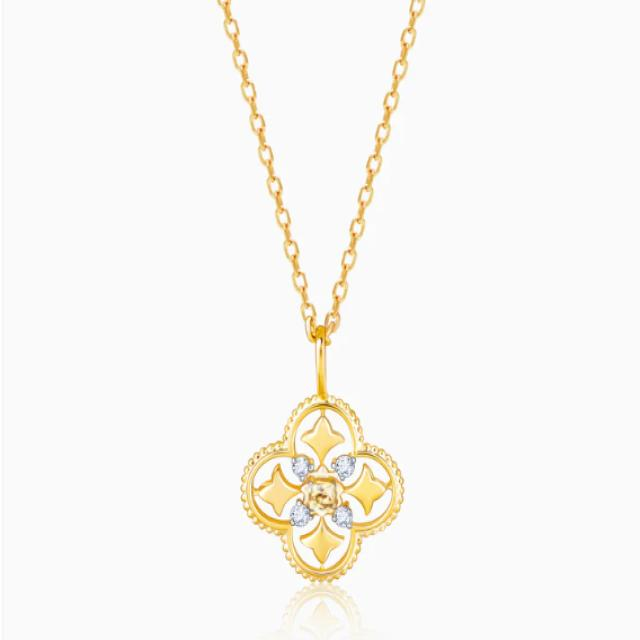missing gem: (306, 476, 338, 510)
